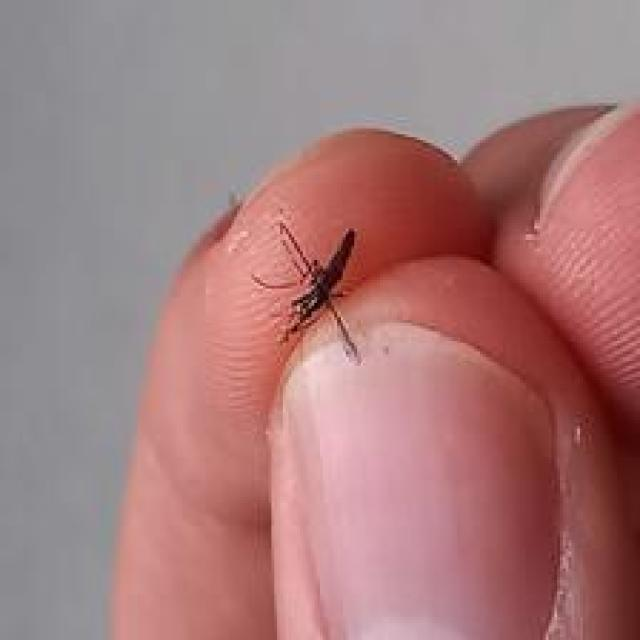Aedes albopictus: (250, 219, 361, 364)
